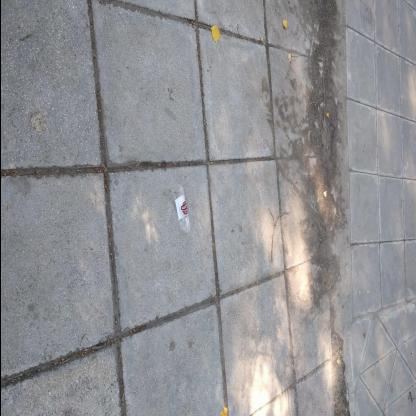plastik: (171, 185, 191, 235)
